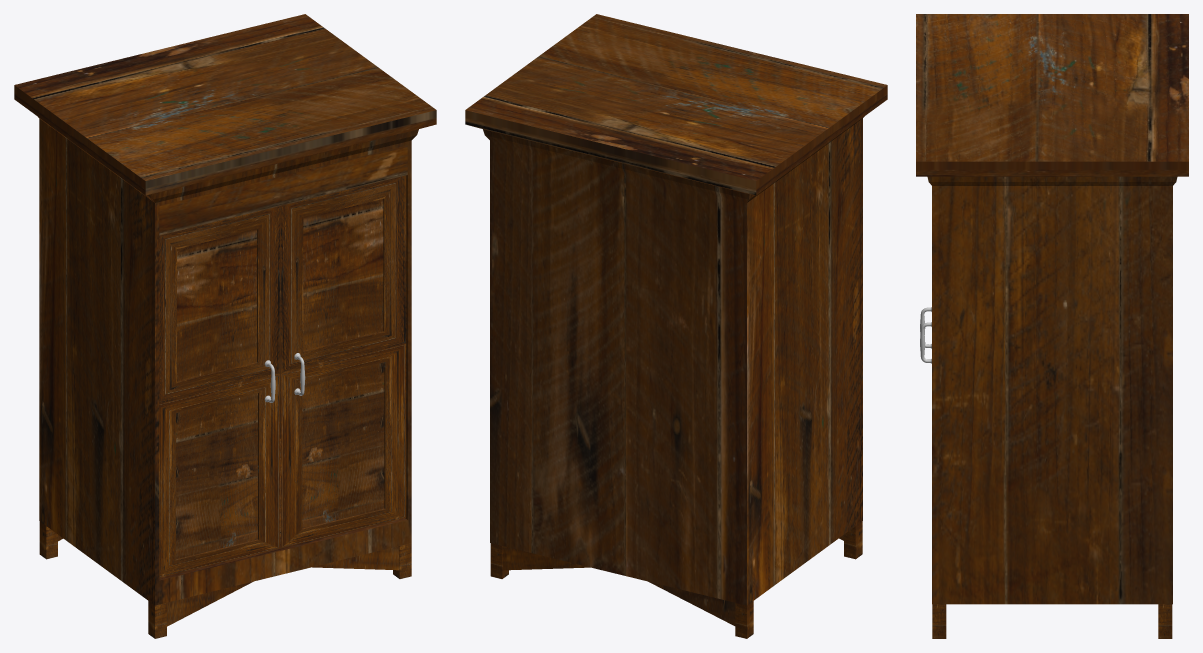
The model's file is woodenwardrobe (1).fbx.
3 renders of one model, left to right at view 1: azimuth 30°, elevation 25°; view 2: azimuth 150°, elevation 25°; view 3: azimuth 270°, elevation 25°, orthographic. The views are drawn at different scales.
Visible parts, largest first — view 1: クローゼット, ドア.002, ドア.003; view 2: クローゼット; view 3: クローゼット.
Part boxes in pixels (x1,y1,x2,y2): クローゼット: (14,14,436,638); ドア.002: (281,175,406,547); ドア.003: (159,206,280,577); クローゼット: (465,14,887,638); クローゼット: (916,14,1188,638).
Bounding box in the file's own units: 167 × 257 × 131.
